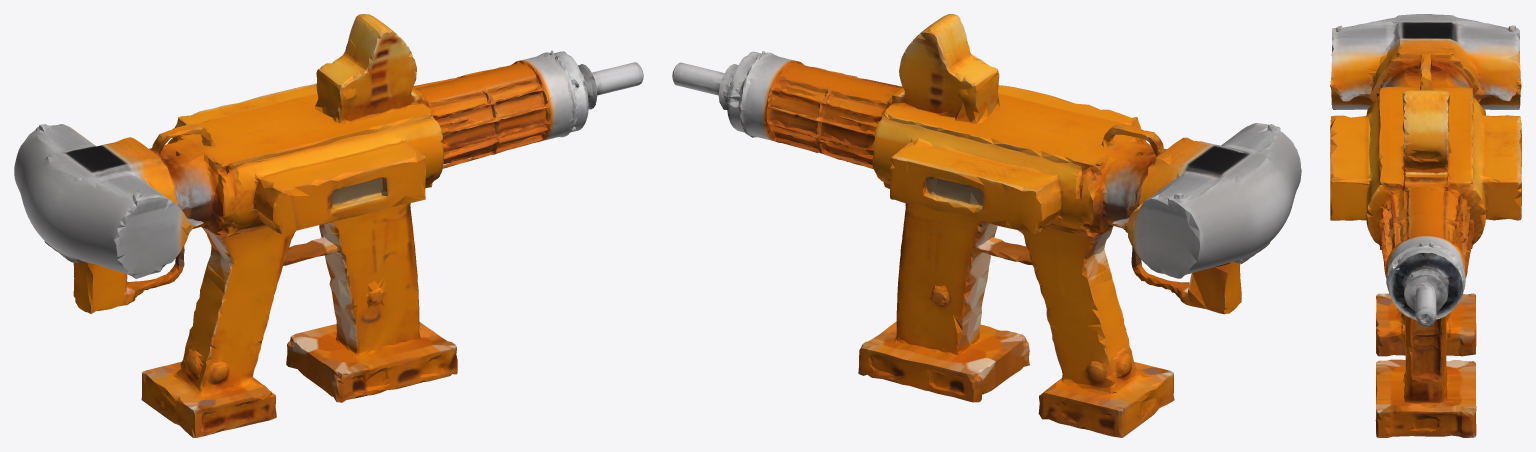
Rendered from golem_weapon_primary.glb.
3 renders of one model, left to right at view 1: azimuth 30°, elevation 25°; view 2: azimuth 150°, elevation 25°; view 3: azimuth 270°, elevation 25°, orthographic. The views are drawn at different scales.
Visible parts, largest first — view 1: golem_weapon_primary; view 2: golem_weapon_primary; view 3: golem_weapon_primary.
Boxes of the visible parts, left/top/right/bottom form: golem_weapon_primary: left=14, top=14, right=643, bottom=437; golem_weapon_primary: left=672, top=14, right=1301, bottom=437; golem_weapon_primary: left=1330, top=14, right=1521, bottom=437.
Size of the model in its own units: 1.89 by 1.04 by 0.5642.
Materials: 1 (1 with a texture image).
